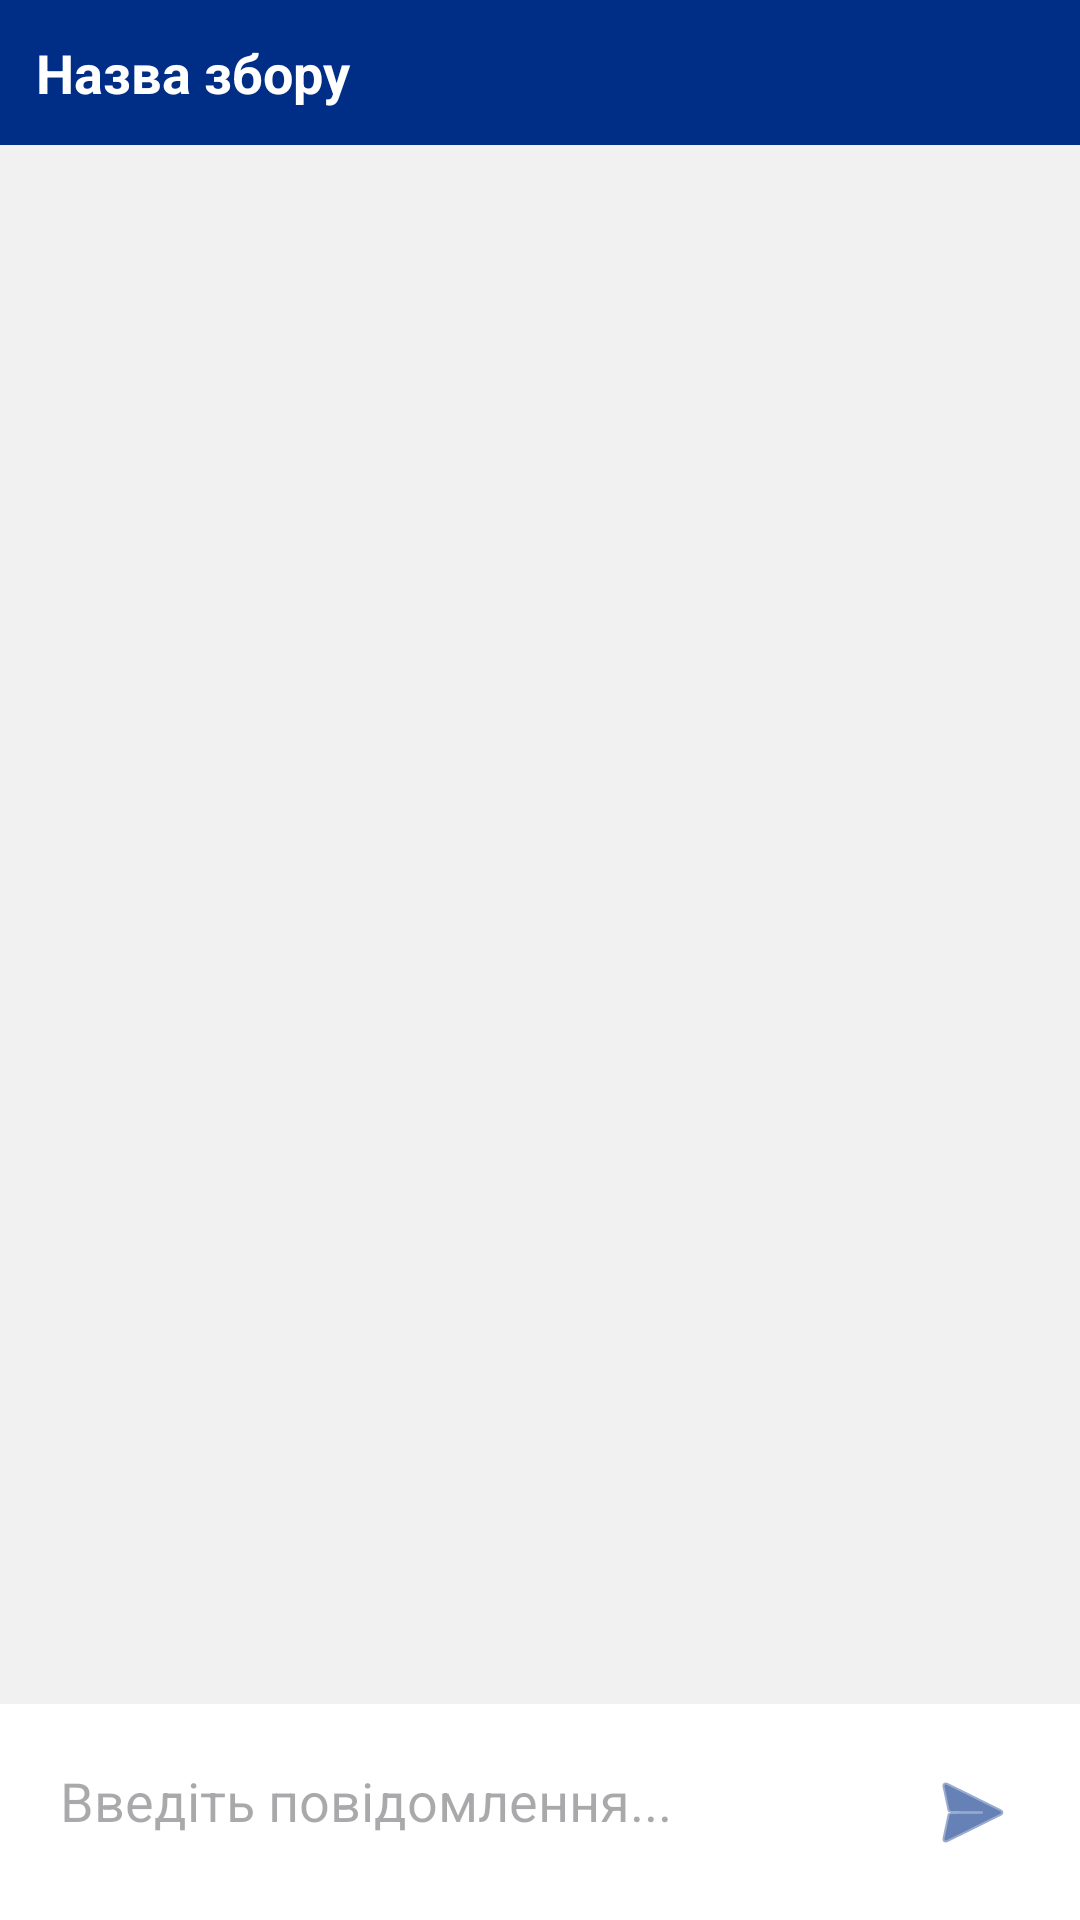

Where to tap for icons on this 1080 × 1920 app screen, as point (x, y):
Надіслати: point (973, 1812)
